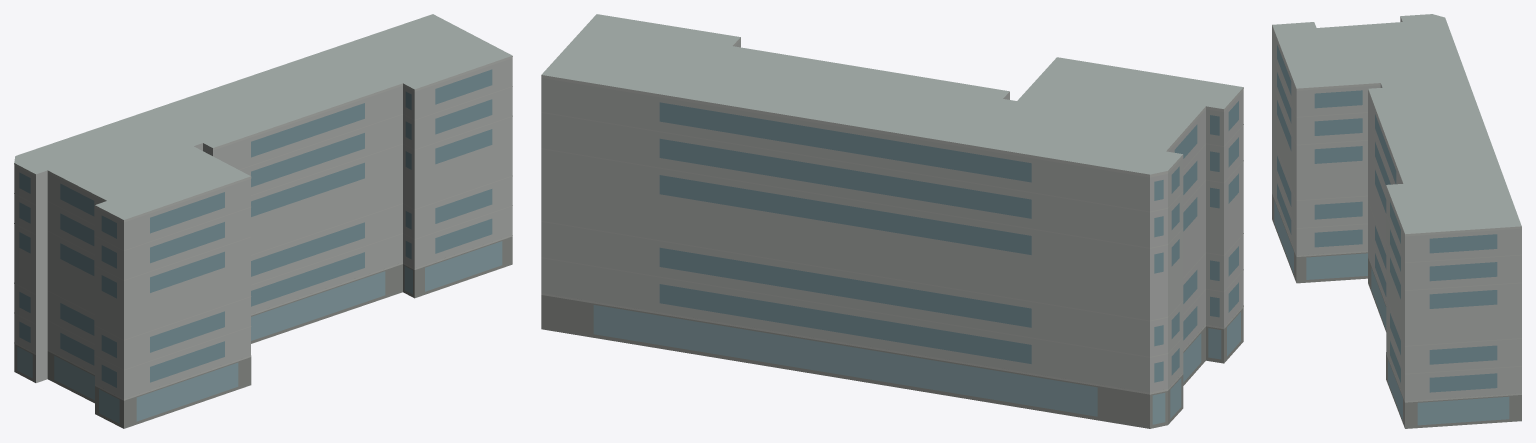
Rendered from survey-upis-32703078.glb.
3 renders of one model, left to right at view 1: azimuth 30°, elevation 25°; view 2: azimuth 150°, elevation 25°; view 3: azimuth 270°, elevation 25°, orthographic. The views are drawn at different scales.
Visible parts, largest first — view 1: survey-upis-32703078.tmp; view 2: survey-upis-32703078.tmp; view 3: survey-upis-32703078.tmp.
Part boxes in pixels (<box>): survey-upis-32703078.tmp: <box>14,14,512,428</box>; survey-upis-32703078.tmp: <box>541,14,1243,428</box>; survey-upis-32703078.tmp: <box>1272,14,1521,428</box>.
Size of the model in its own units: 49.97 by 20.6 by 23.96.
